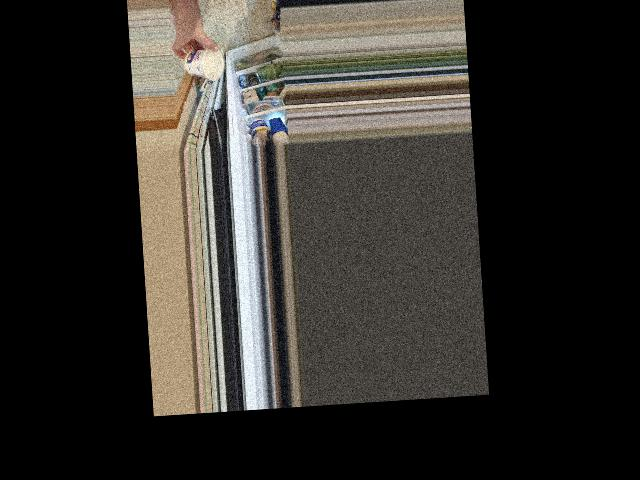cotage: (184, 45, 228, 81)
